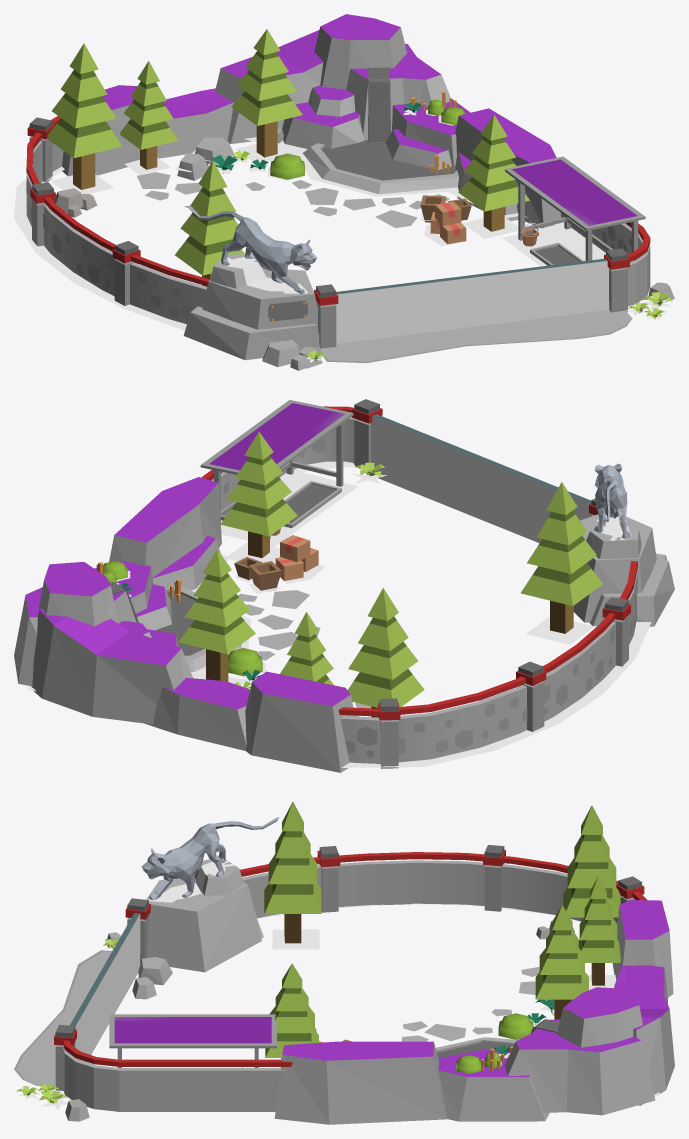
The model's file is xweilan_1001_5.FBX.
3 renders of one model, top to bottom at view 1: azimuth 30°, elevation 25°; view 2: azimuth 150°, elevation 25°; view 3: azimuth 270°, elevation 25°, orthographic. The views are drawn at different scales.
Visible parts, largest first — view 1: xweilan_1001_5; view 2: xweilan_1001_5; view 3: xweilan_1001_5.
Boxes of the visible parts, <box> form: xweilan_1001_5: <box>14,14,674,370</box>; xweilan_1001_5: <box>14,399,674,772</box>; xweilan_1001_5: <box>14,801,674,1124</box>.
Bounding box in the file's own units: 4835 × 1559 × 6032.
